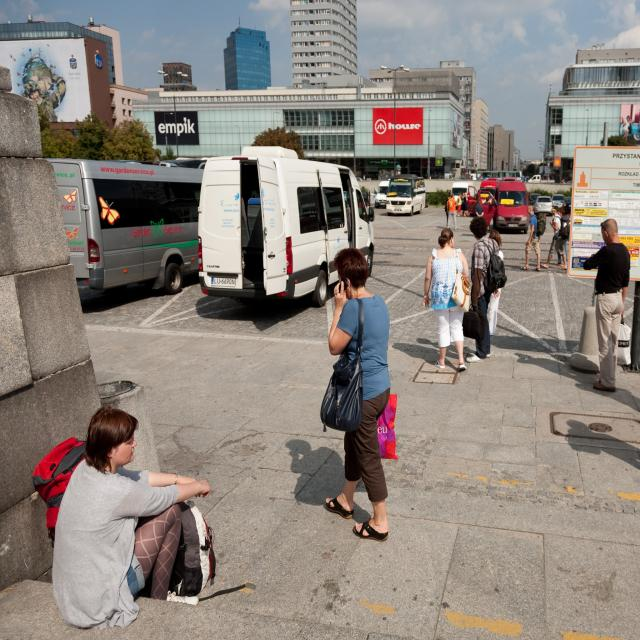body: (50, 401, 213, 632), (318, 244, 400, 544), (395, 331, 640, 388), (283, 433, 374, 536), (582, 217, 632, 394), (421, 225, 471, 373), (466, 216, 502, 363), (563, 417, 640, 474), (20, 70, 67, 124), (486, 229, 504, 337), (520, 203, 548, 272), (540, 204, 568, 270), (506, 252, 568, 274), (554, 208, 569, 267), (446, 192, 460, 230), (619, 110, 634, 142), (482, 196, 492, 232), (444, 194, 452, 229), (460, 192, 470, 217), (375, 168, 394, 180), (474, 199, 485, 218), (456, 192, 462, 217), (460, 192, 465, 216), (560, 175, 572, 184), (479, 175, 500, 180), (435, 224, 449, 230), (466, 173, 476, 180), (428, 175, 432, 185), (363, 175, 365, 183), (548, 177, 550, 181)
